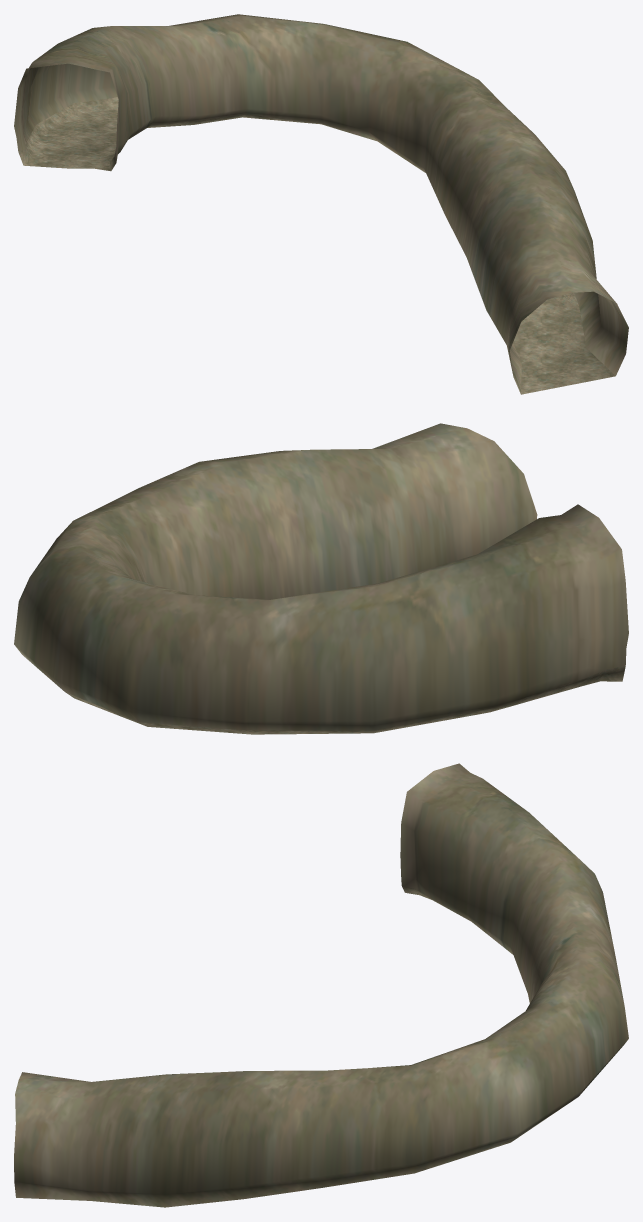
Rendered from OVERHILL_A_01_LINE286.fbx.
The picture shows the model from 3 angles, top to bottom: view 1: azimuth 30°, elevation 25°; view 2: azimuth 150°, elevation 25°; view 3: azimuth 270°, elevation 25°; orthographic projection. The views are drawn at different scales.
Visible parts, largest first — view 1: OVERHILL_A_01_LINE286; view 2: OVERHILL_A_01_LINE286; view 3: OVERHILL_A_01_LINE286.
Part boxes in pixels (bbox=[...]): OVERHILL_A_01_LINE286: bbox=[14, 14, 628, 394]; OVERHILL_A_01_LINE286: bbox=[14, 423, 628, 734]; OVERHILL_A_01_LINE286: bbox=[14, 763, 628, 1207].
Size of the model in its own units: 163586 by 83954 by 183853.
Materials: 1 (1 with a texture image).
